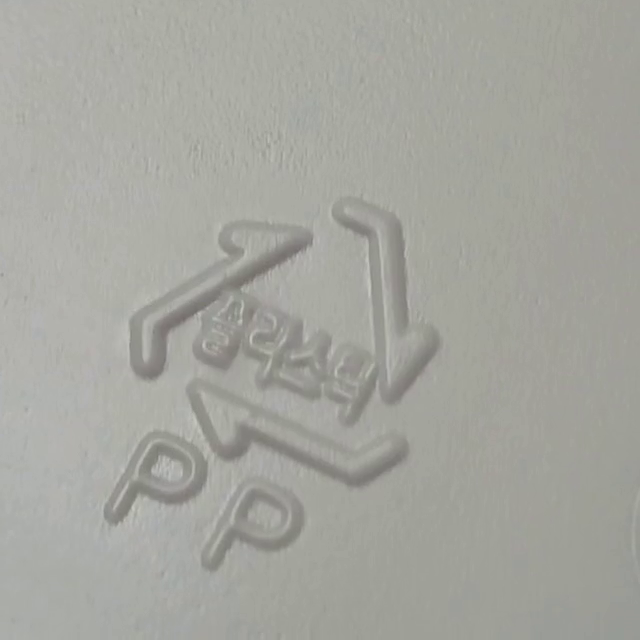Plastic: (127, 195, 435, 486)
